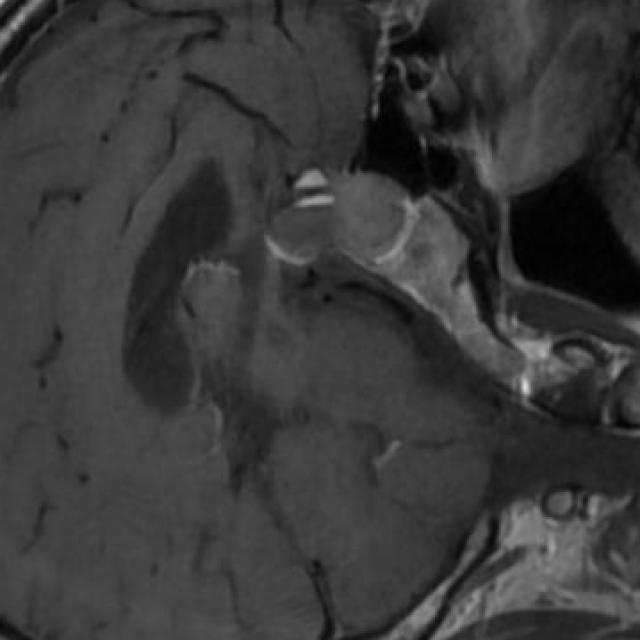pituitary: (267, 173, 410, 271)
